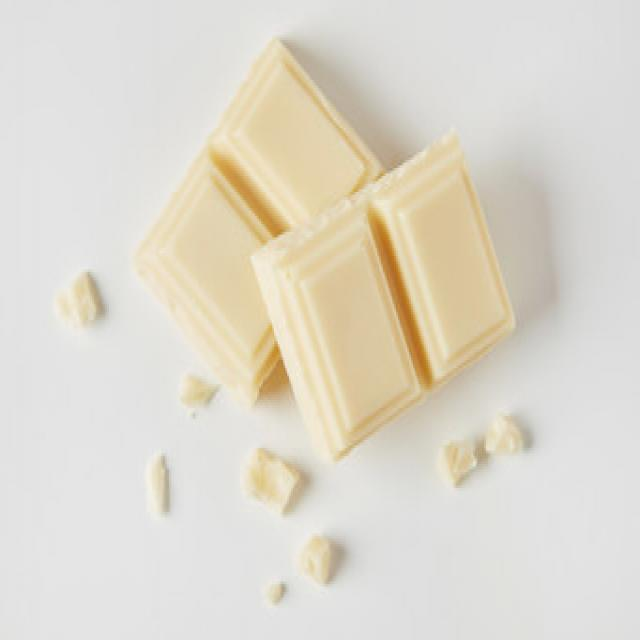Chocolate: (128, 39, 389, 410), (246, 130, 511, 464)
